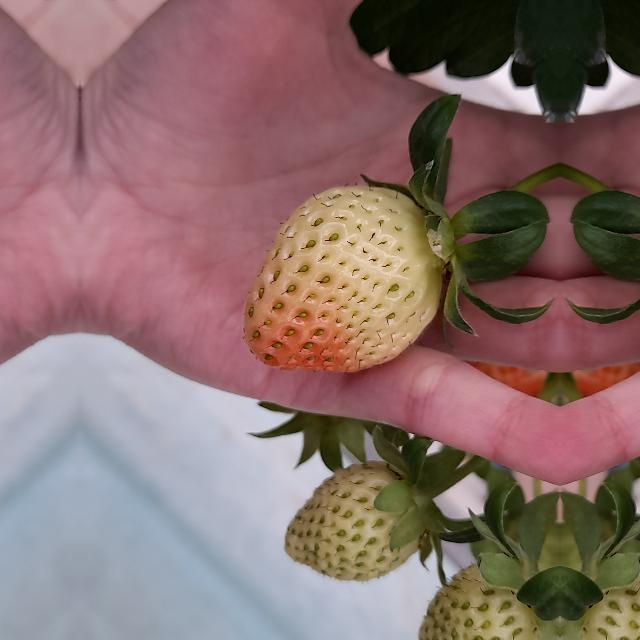Health_50: (243, 186, 445, 372)
